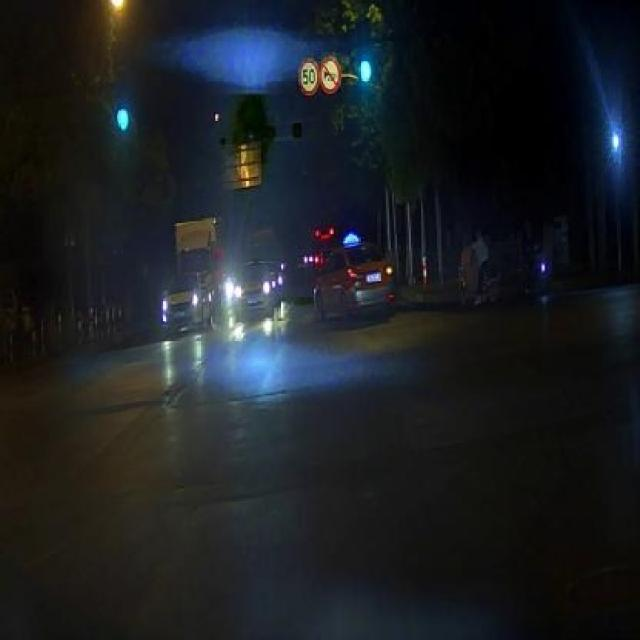forb_speed_over_50: (298, 58, 319, 95)
